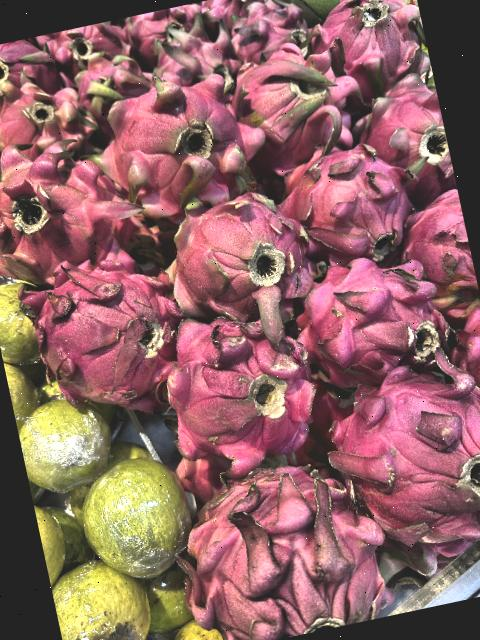buah-naga-belum-matang: (83, 60, 273, 228), (146, 187, 318, 336), (0, 70, 100, 173)
buah-naga-matang: (173, 460, 395, 640), (308, 348, 480, 573), (150, 300, 328, 488), (14, 253, 191, 419), (285, 241, 456, 384), (261, 122, 417, 278), (0, 126, 133, 286), (227, 42, 362, 174), (348, 70, 457, 202), (312, 0, 428, 98), (144, 19, 244, 110), (31, 17, 135, 80), (0, 33, 63, 117)
